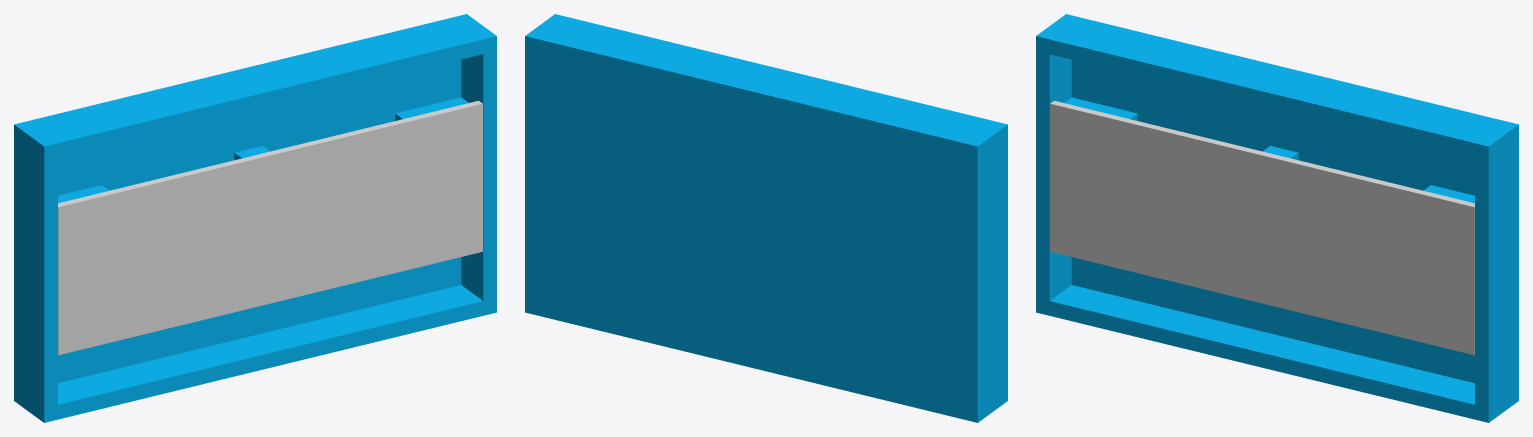
The model's file is mitica 3d 2013.gltf.
The picture shows the model from 3 angles, left to right: view 1: azimuth 30°, elevation 25°; view 2: azimuth 150°, elevation 25°; view 3: azimuth 330°, elevation 25°; orthographic projection.
Visible parts, largest first — view 1: 3D Solid (×4); view 2: 3D Solid (×2); view 3: 3D Solid (×4).
Boxes of the visible parts, x1,y1,x2,y2 form: 3D Solid (×4): [14, 14, 496, 422]; 3D Solid (×2): [525, 14, 1007, 422]; 3D Solid (×4): [1036, 14, 1518, 422].
Size of the model in its own units: 960 by 560 by 111.
